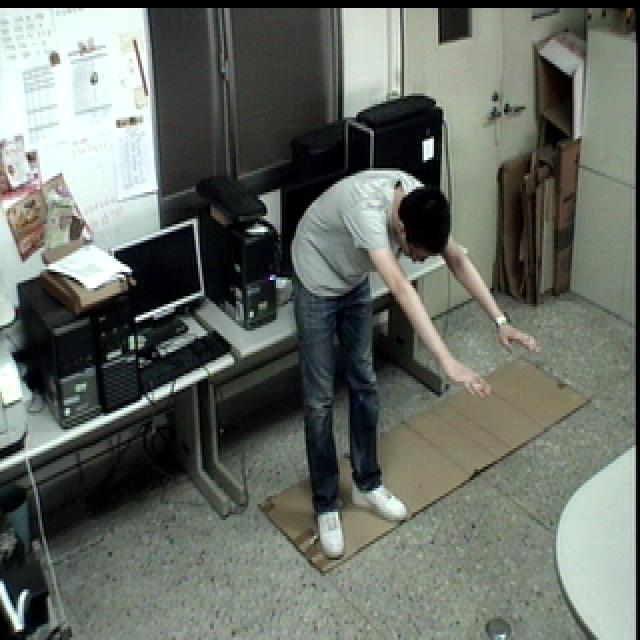bend: (280, 163, 543, 563)
